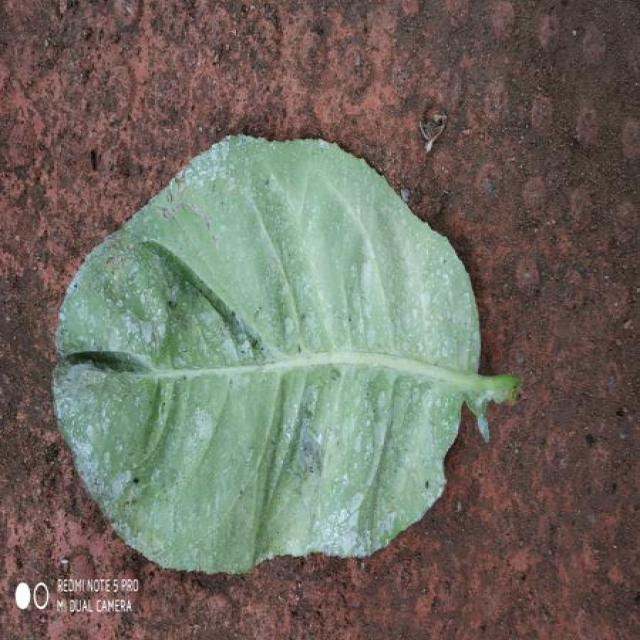badipala: (55, 136, 520, 573)
disease in leaf: (172, 314, 462, 572)
